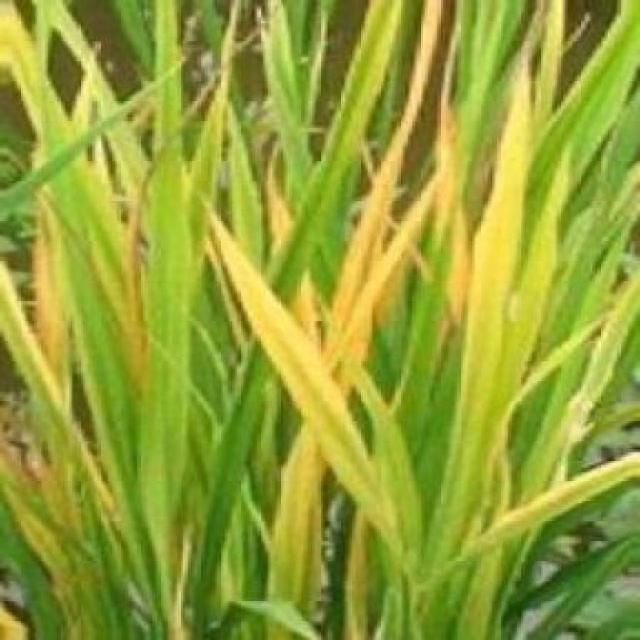Rice Tungro: (270, 35, 453, 553), (183, 210, 408, 530), (464, 48, 537, 512), (2, 262, 87, 441), (495, 447, 638, 550)
